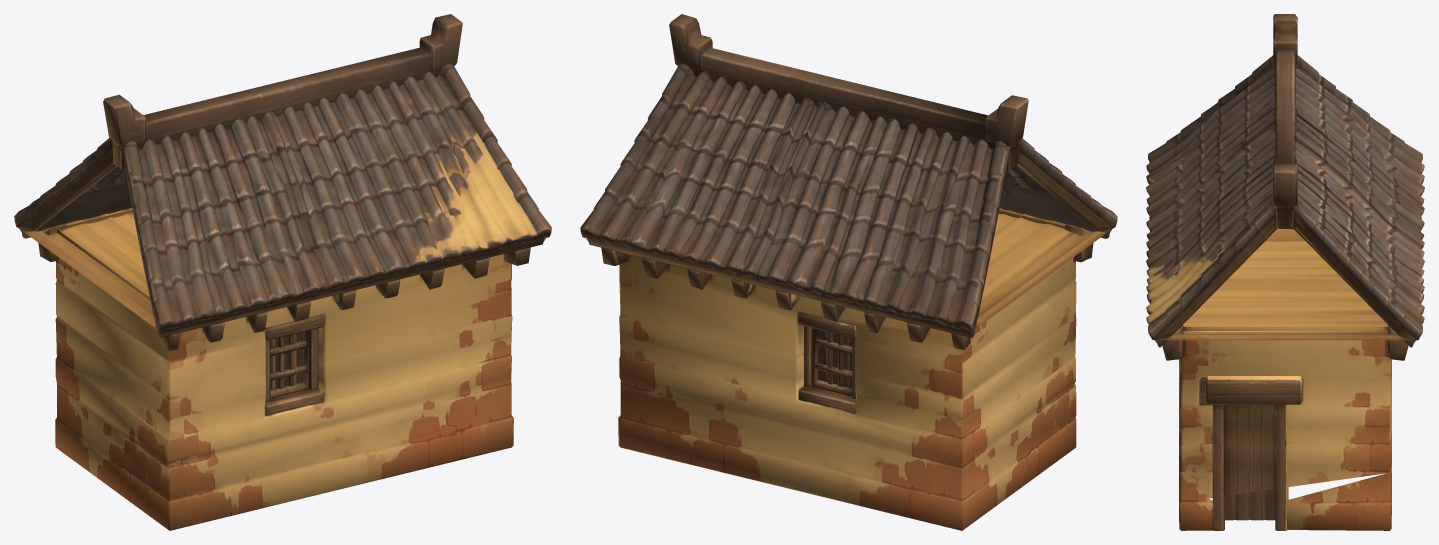
File: SM_Tripo_DesertBuriedRoofHouse.glb
3 renders of one model, left to right at view 1: azimuth 30°, elevation 25°; view 2: azimuth 150°, elevation 25°; view 3: azimuth 270°, elevation 25°, orthographic. The views are drawn at different scales.
Parts seen in each view (by area): view 1: SM_Tripo_DesertBuriedRoofHouse_LOD0; view 2: SM_Tripo_DesertBuriedRoofHouse_LOD0; view 3: SM_Tripo_DesertBuriedRoofHouse_LOD0.
Part boxes in pixels (left/top/right/bottom): SM_Tripo_DesertBuriedRoofHouse_LOD0: left=14, top=14, right=551, bottom=530; SM_Tripo_DesertBuriedRoofHouse_LOD0: left=580, top=14, right=1117, bottom=530; SM_Tripo_DesertBuriedRoofHouse_LOD0: left=1146, top=14, right=1424, bottom=530.
Bounding box in the file's own units: 4.76 × 4.5 × 3.16.
Materials: 1 (1 with a texture image).
